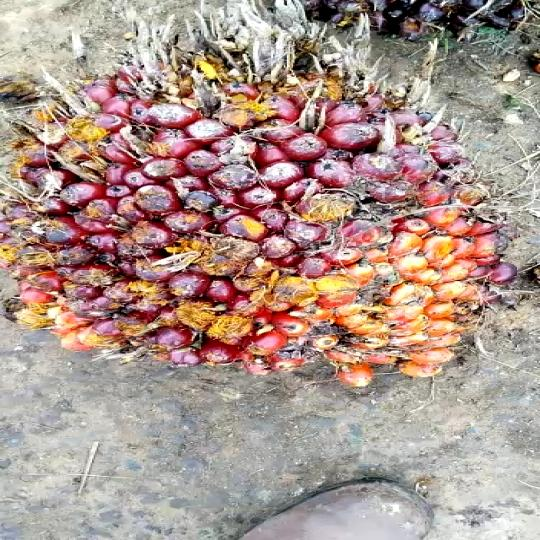masak: (0, 14, 540, 394)
